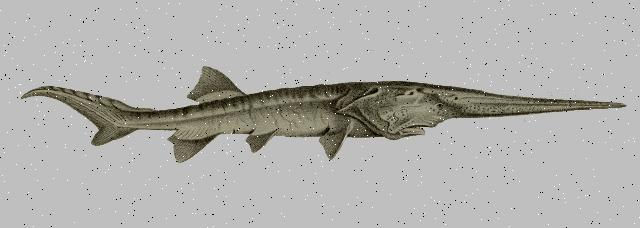Mulut: (387, 106, 445, 156)
Sirip Anal: (162, 122, 228, 174)
Sirip Dada: (314, 120, 361, 166)
Sirip Ekor: (16, 78, 140, 164)
Sirip Perut: (244, 121, 292, 166)
Sirip Punggung: (176, 56, 256, 114)
